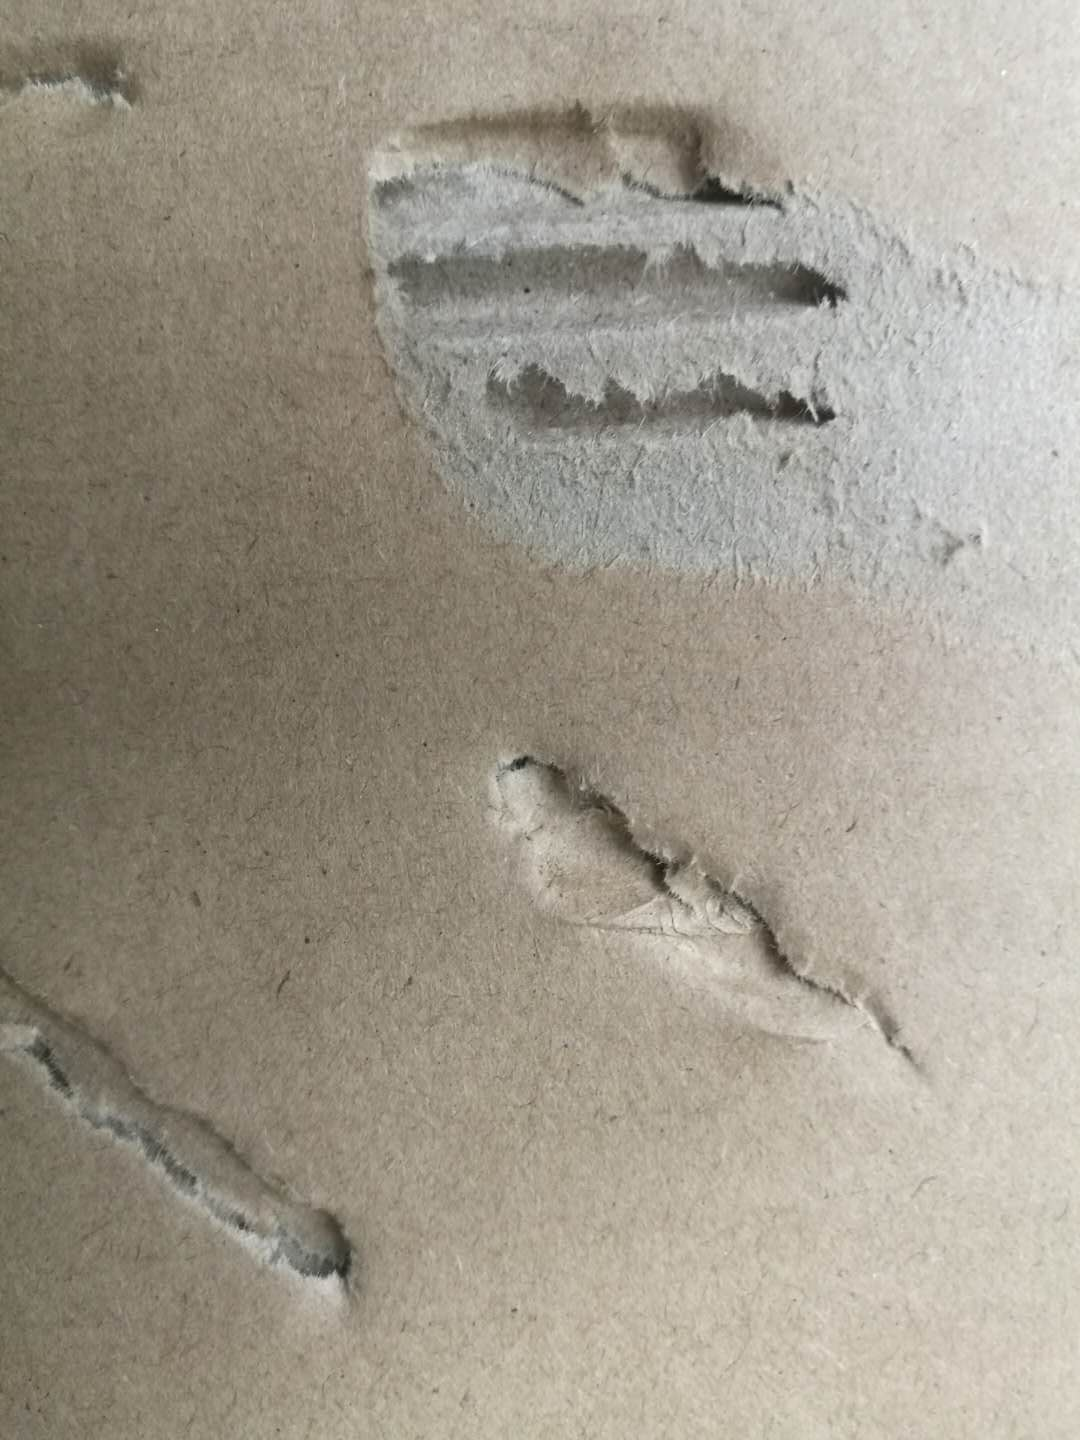defect: (334, 61, 1080, 683), (462, 718, 965, 1113), (1, 938, 393, 1342), (1, 22, 191, 161)
